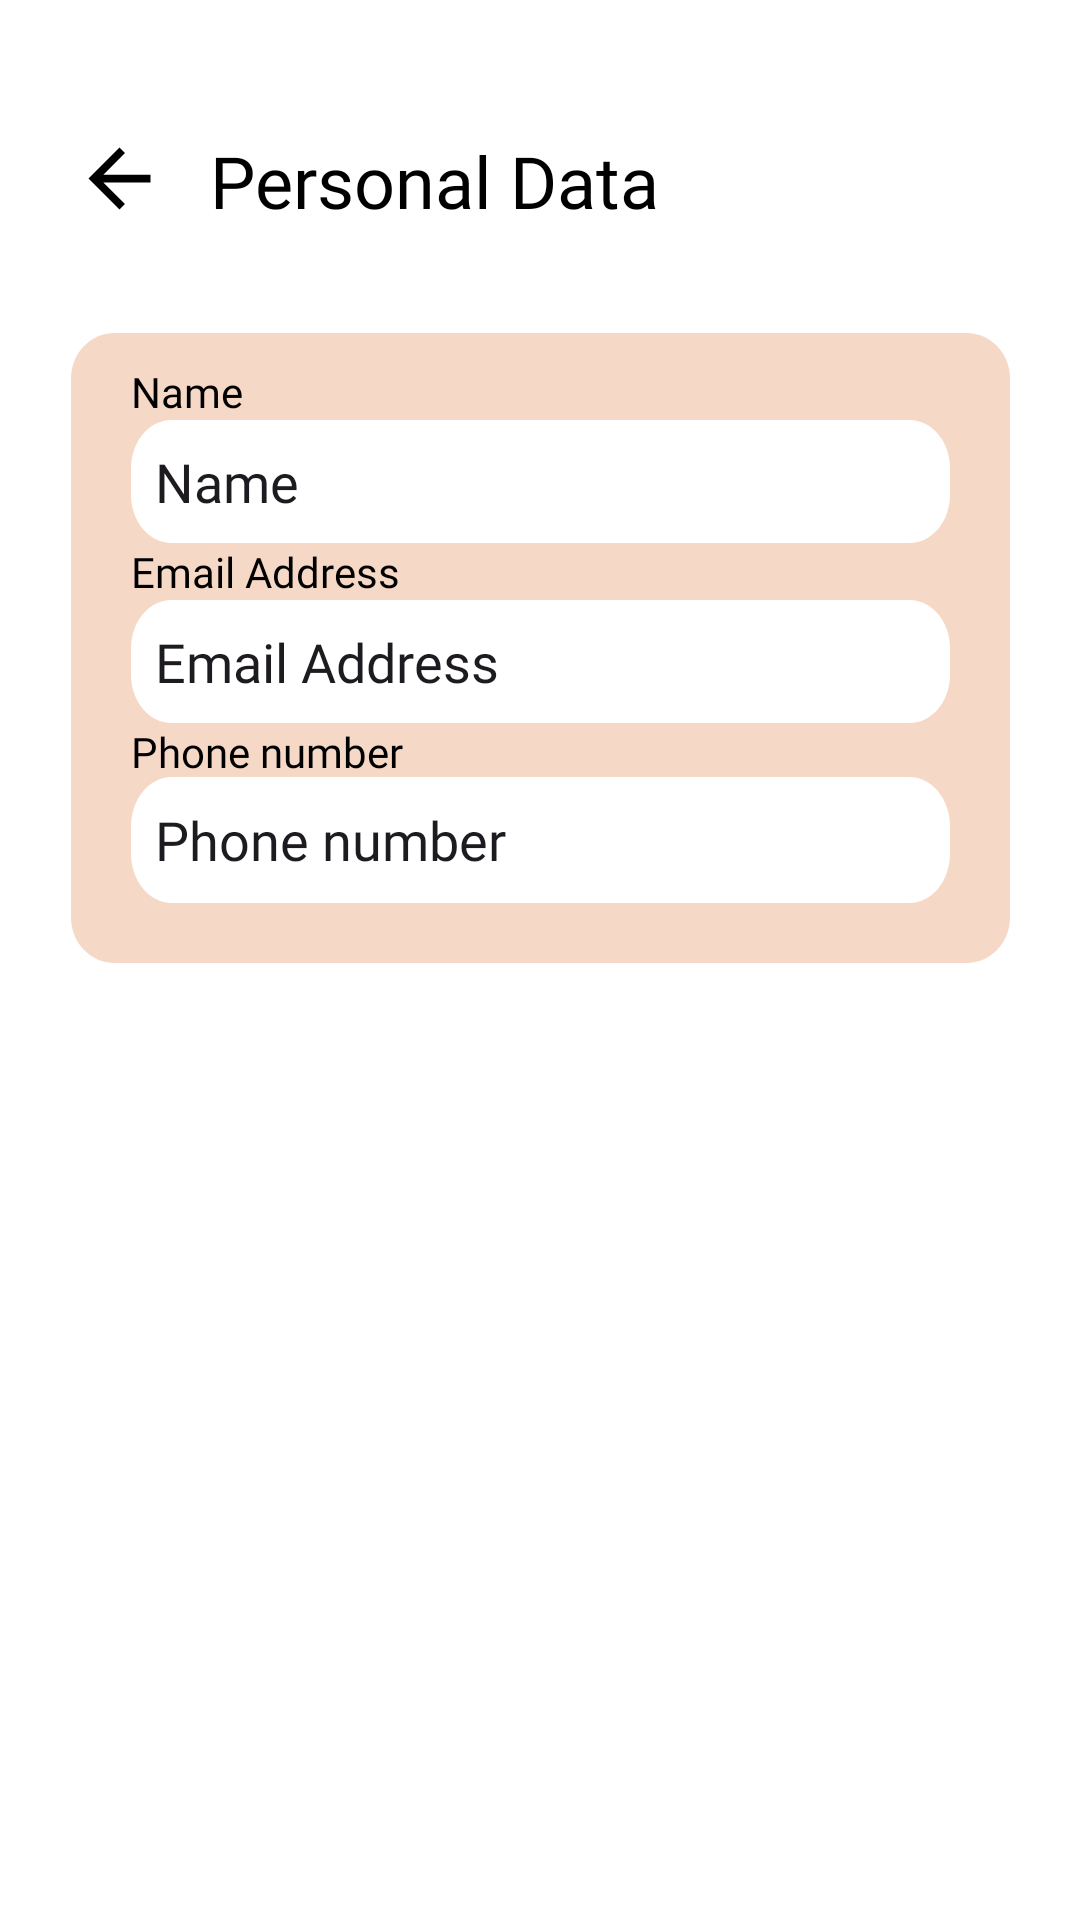

Icon click points for this 1080px×1920px phone screenshot, format (x,y):
arrow back: (119,178)
